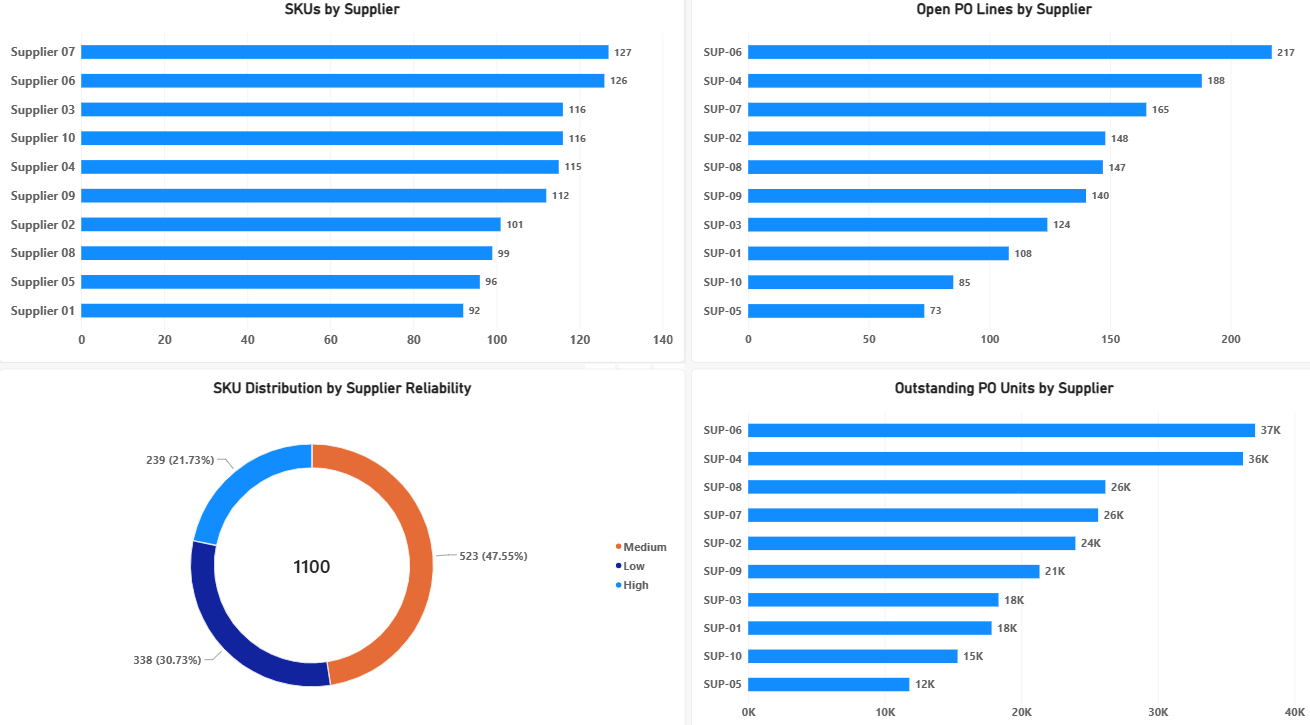

This screenshot's page, from the dashboard's own definition file:
{"tool":"powerbi","page":{"name":"Purchasing Actions & Supplier Performance","canvas":[1920,1080],"ordinal":3},"visuals":[{"type":"clusteredBarChart","title":"SKUs by Supplier","fields":{"Category":["DimSupplier.Supplier_Name"],"Y":["Sum(Supplier_Summary.SKU_Count)"]},"box":[10.4,0,993.5,539.5],"z":0},{"type":"donutChart","title":"SKU Distribution by Supplier Reliability","fields":{"Category":["Supplier_Summary.Supplier_Reliability"],"Y":["Sum(Supplier_Summary.SKU_Count)"]},"box":[10,549,994,531],"z":1},{"type":"clusteredBarChart","title":"Open PO Lines by Supplier","fields":{"Category":["Open_PO_Exceptions.Supplier_ID"],"Y":["Count(Open_PO_Exceptions.PO_ID)"]},"box":[1014,0,906,539],"z":2},{"type":"clusteredBarChart","title":"Outstanding PO Units by Supplier","fields":{"Category":["Open_PO_Exceptions.Supplier_ID"],"Y":["Sum(Open_PO_Exceptions.Outstanding_Quantity)"]},"box":[1014,549,906,531],"z":3}]}

Visuals, with their boxes in screenshot pixels (x1, y1, x2, y2), scaled from the page's 1920x1080 canvas onto the 1310x725 screenshot:
"SKUs by Supplier" clusteredBarChart: {"x1": 7, "y1": 0, "x2": 685, "y2": 362}
"SKU Distribution by Supplier Reliability" donutChart: {"x1": 7, "y1": 369, "x2": 685, "y2": 724}
"Open PO Lines by Supplier" clusteredBarChart: {"x1": 692, "y1": 0, "x2": 1309, "y2": 362}
"Outstanding PO Units by Supplier" clusteredBarChart: {"x1": 692, "y1": 369, "x2": 1309, "y2": 724}
